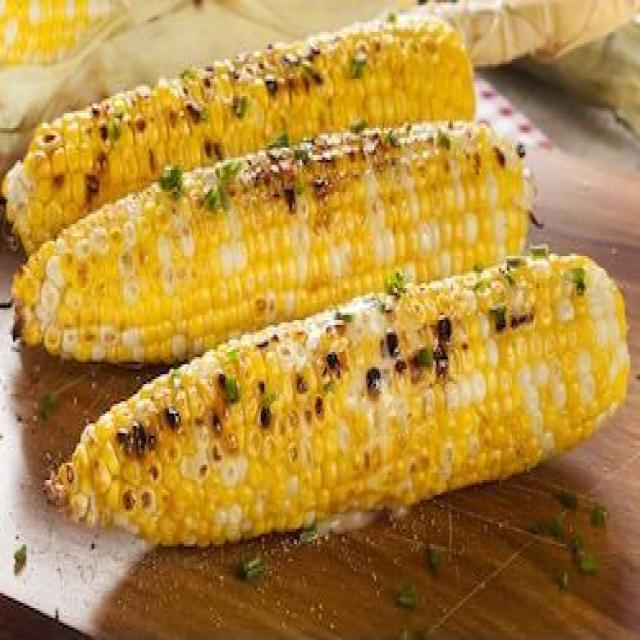Corn ear: (80, 338, 400, 542), (398, 254, 628, 486), (205, 120, 531, 274), (193, 16, 475, 146), (16, 199, 210, 358), (15, 77, 196, 216)
